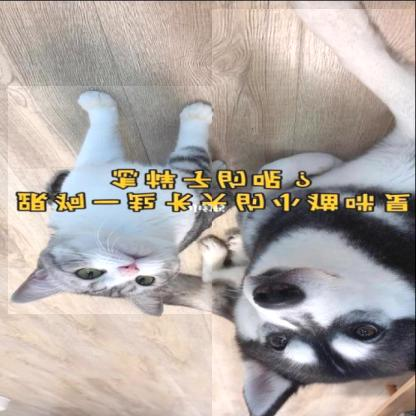cat: (8, 86, 236, 314)
dog: (212, 9, 415, 416)
